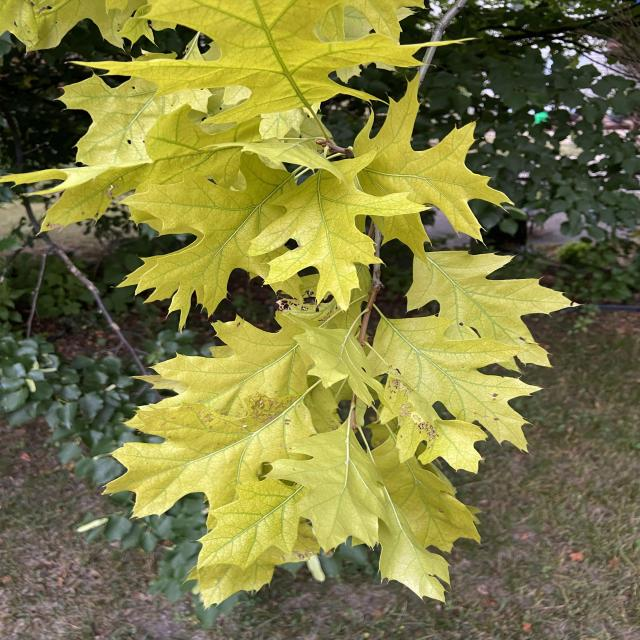Chlorosis: (4, 11, 562, 637)
